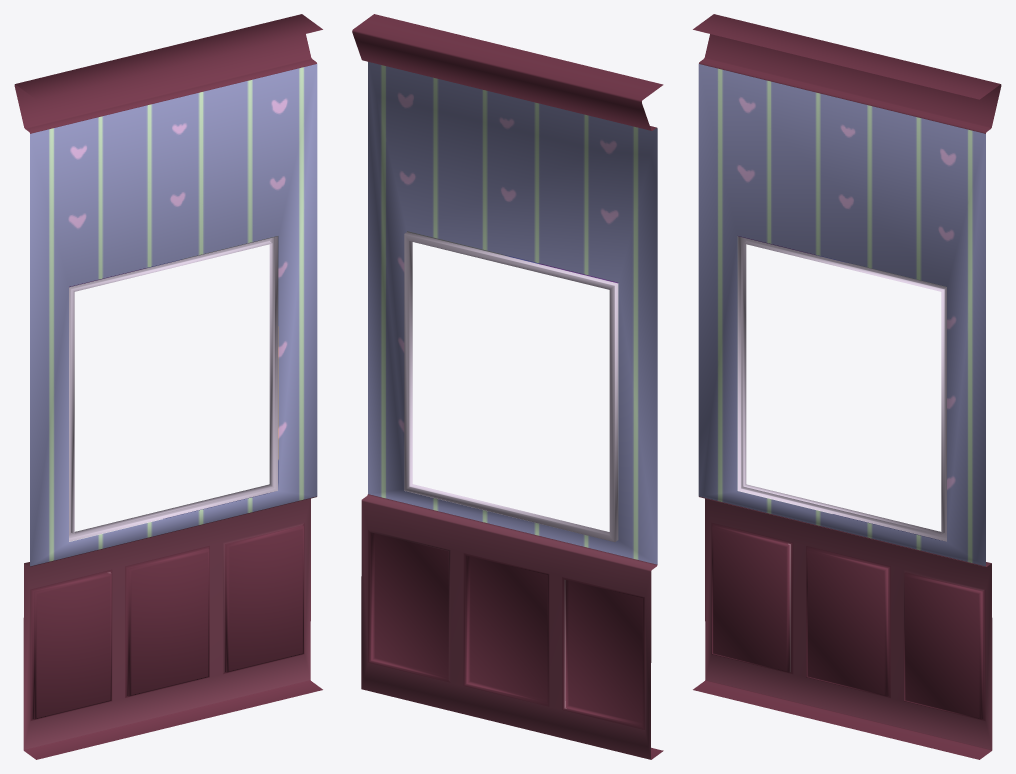
File: WallWindow.fbx
The picture shows the model from 3 angles, left to right: view 1: azimuth 30°, elevation 25°; view 2: azimuth 150°, elevation 25°; view 3: azimuth 330°, elevation 25°; orthographic projection.
Parts seen in each view (by area): view 1: wallWindow; view 2: wallWindow; view 3: wallWindow.
Part boxes in pixels (x1,y1,x2,y2): wallWindow: (14,14,322,759); wallWindow: (352,14,663,759); wallWindow: (693,14,1001,759).
Bounding box in the file's own units: 400 × 879 × 52.78.
